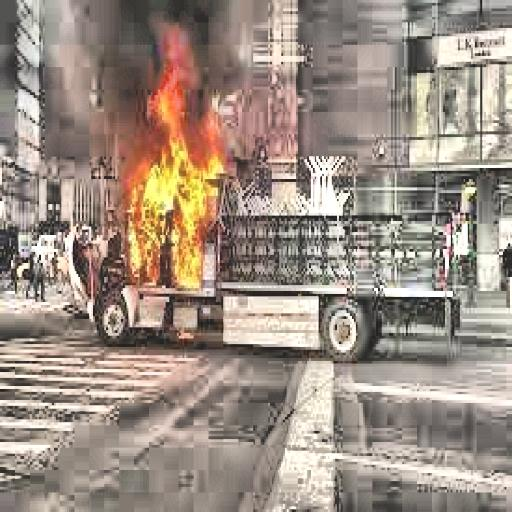fire: (115, 82, 233, 300)
